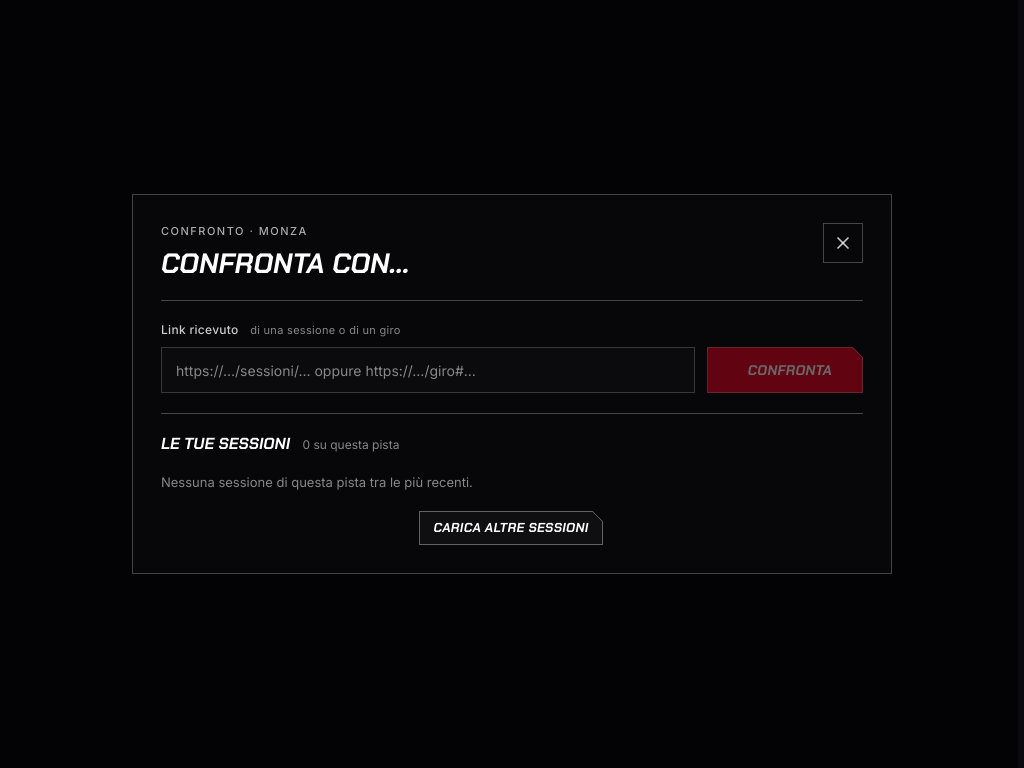
Test: session picker paging (PIP-591) › reaches an older comparable session with "Carica altre sessioni"
expect the text with class "spm-empty" shows "tra le più recenti": met, box [161, 474, 473, 490]
Click the button with class "spm-load-more".
click(511, 528)  # box [419, 511, 603, 545]
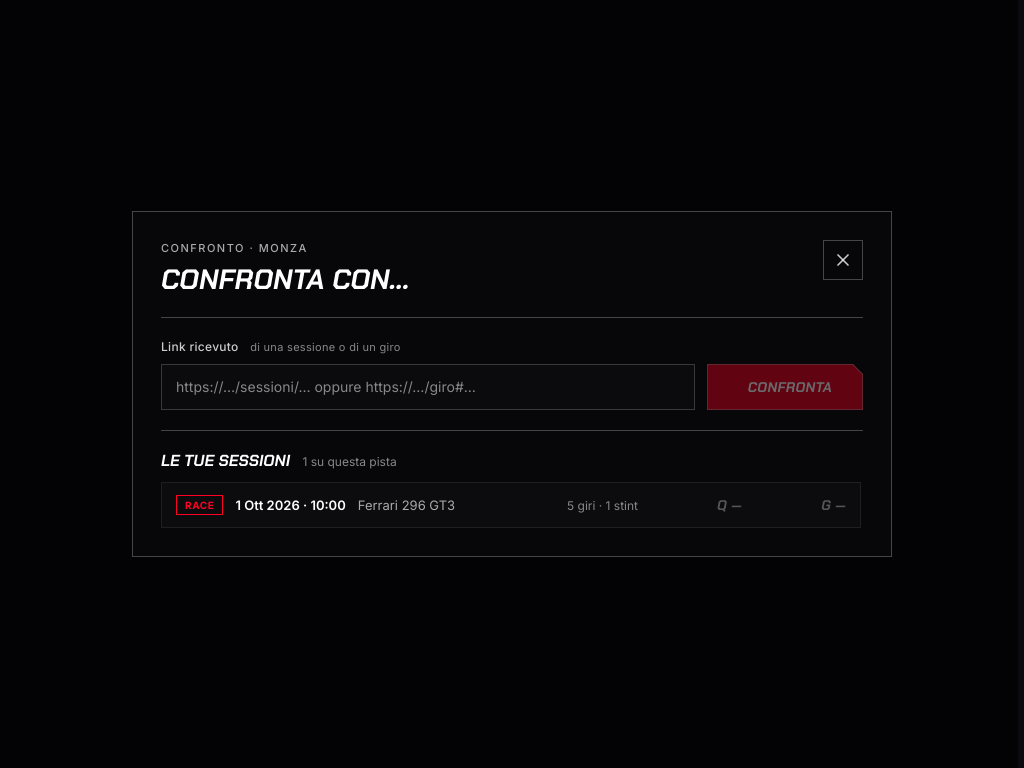
expect the number of buttons with class "session-row" is 1: met, box [161, 482, 861, 528]
